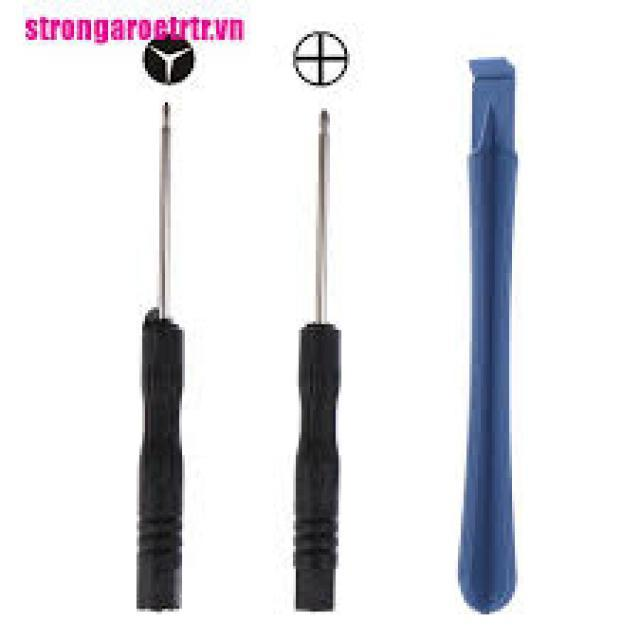screwdriver: (290, 105, 361, 617), (130, 92, 187, 618)
